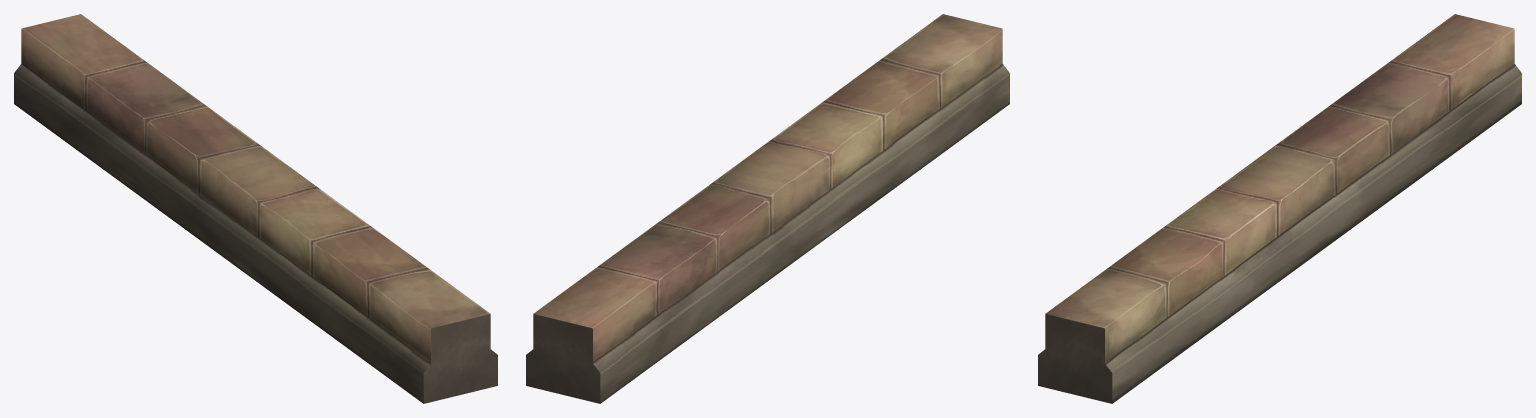
The model's file is bricks4.fbx.
The picture shows the model from 3 angles, left to right: view 1: azimuth 30°, elevation 25°; view 2: azimuth 150°, elevation 25°; view 3: azimuth 330°, elevation 25°; orthographic projection.
Parts seen in each view (by area): view 1: polySurface2311; view 2: polySurface2311; view 3: polySurface2311.
Boxes of the visible parts, <box> form: polySurface2311: <box>14,14,497,403</box>; polySurface2311: <box>526,14,1009,403</box>; polySurface2311: <box>1038,14,1521,403</box>.
Size of the model in its own units: 0.2963 by 0.2813 by 2.83.
